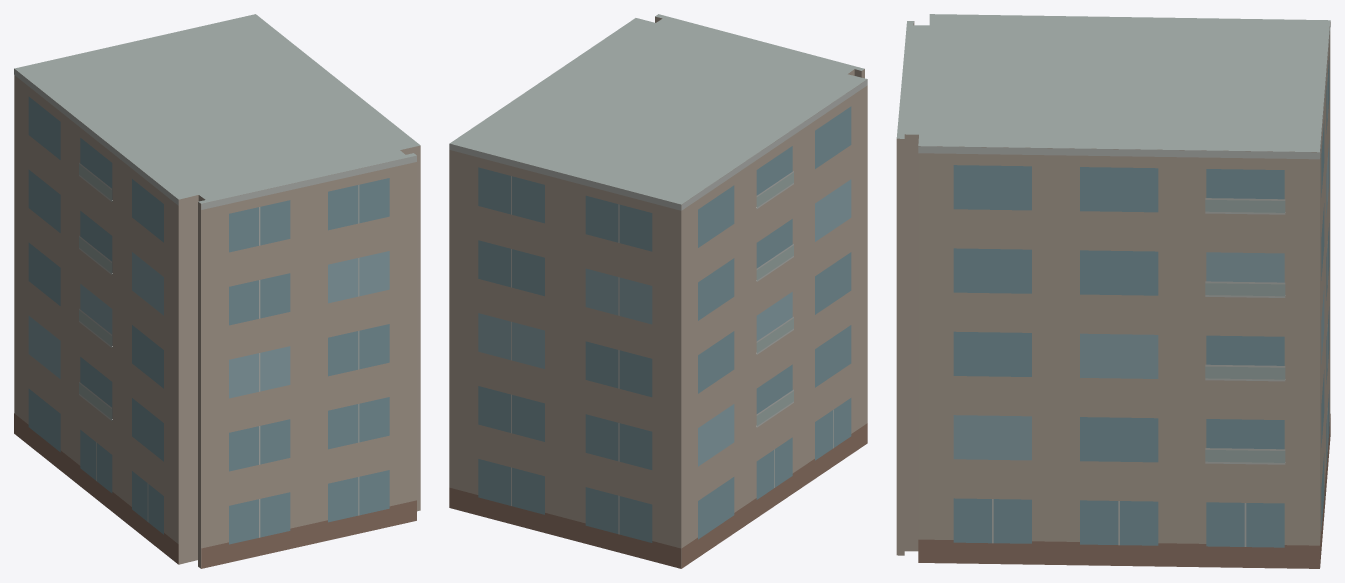
File: survey-upis-32837782.glb
The picture shows the model from 3 angles, left to right: view 1: azimuth 30°, elevation 25°; view 2: azimuth 150°, elevation 25°; view 3: azimuth 270°, elevation 25°; orthographic projection. The views are drawn at different scales.
Parts seen in each view (by area): view 1: survey-upis-32837782.tmp; view 2: survey-upis-32837782.tmp; view 3: survey-upis-32837782.tmp.
Boxes of the visible parts, bbox=[...] form: survey-upis-32837782.tmp: bbox=[14, 14, 420, 568]; survey-upis-32837782.tmp: bbox=[449, 14, 867, 568]; survey-upis-32837782.tmp: bbox=[896, 14, 1330, 568].
Bounding box in the file's own units: 10.11 × 14.2 × 13.4.
